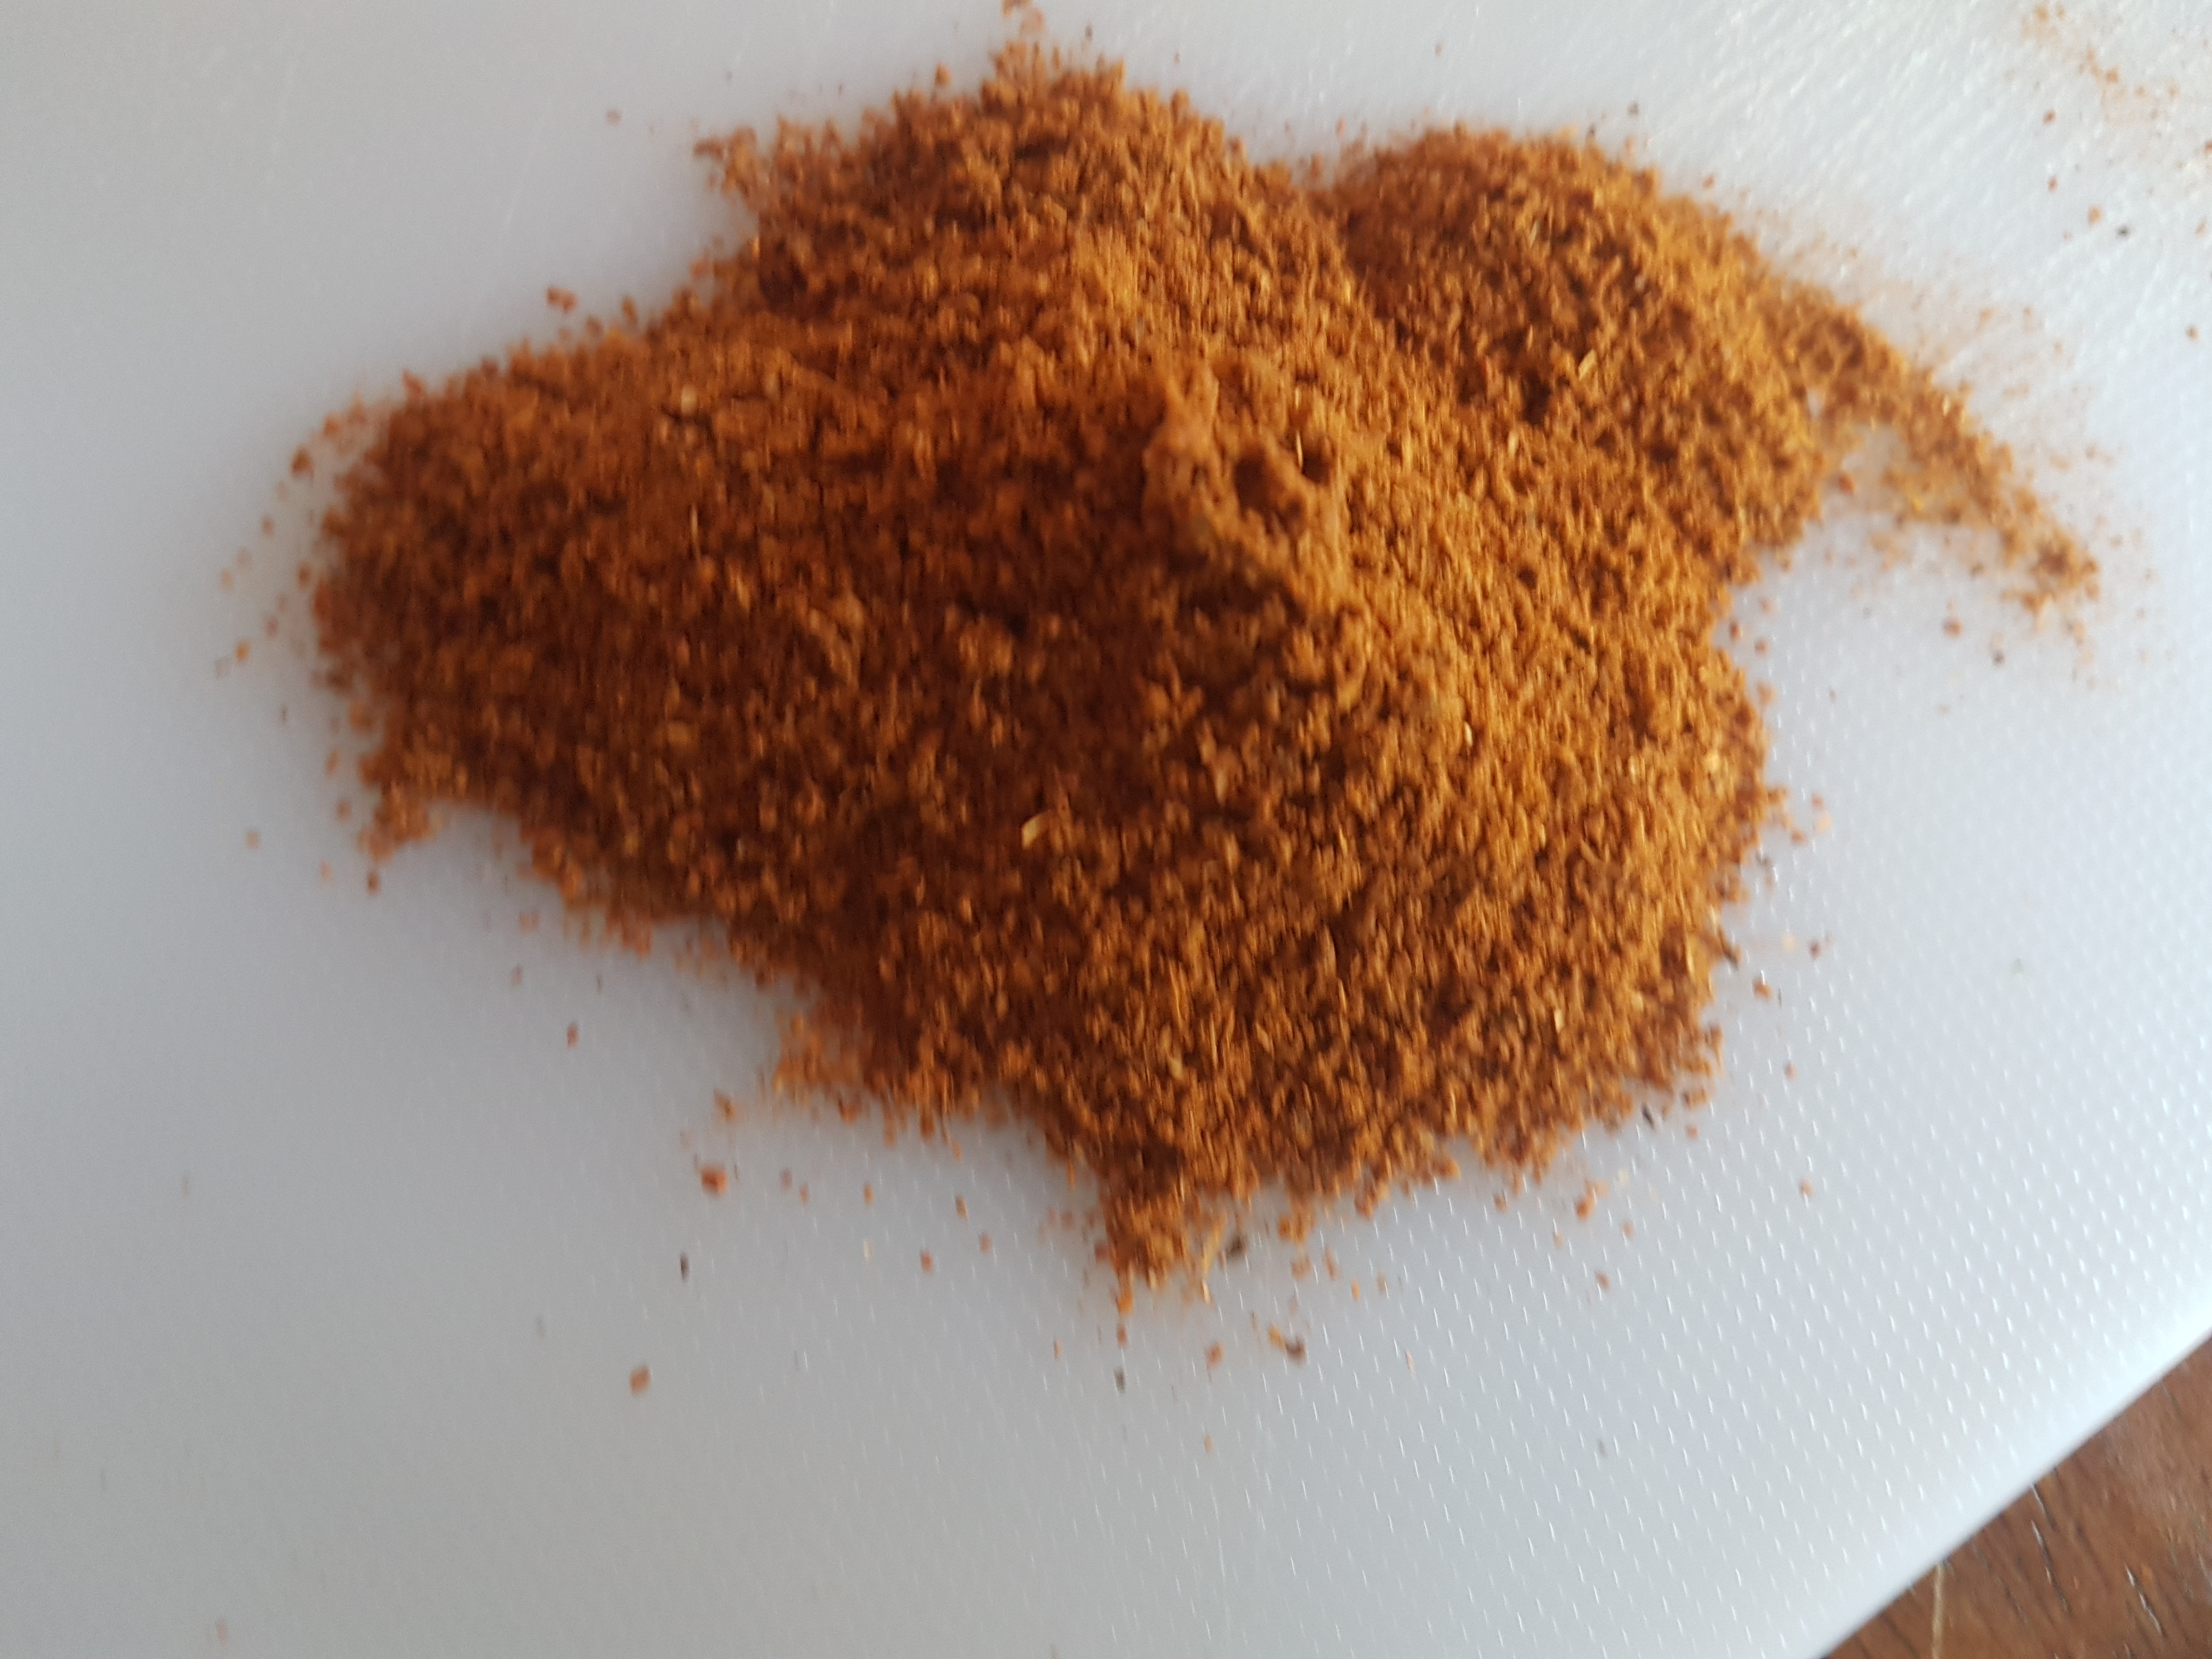Garam masala: (216, 19, 2106, 1412)
